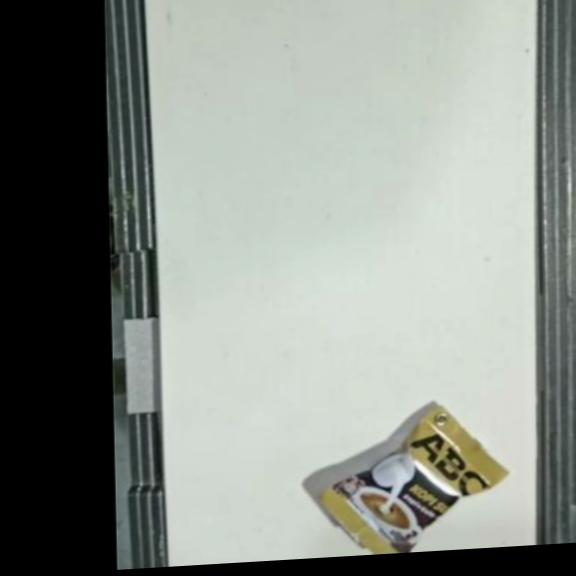Plastik: (319, 402, 510, 557)
